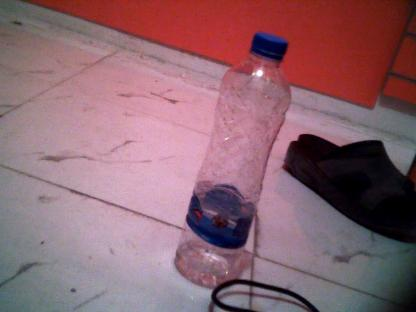Plastic Bottle: (152, 17, 294, 300)
